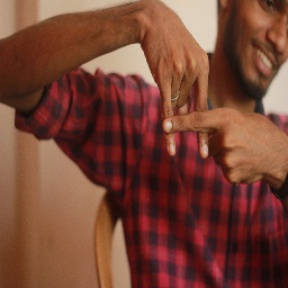H: (146, 46, 235, 179)
